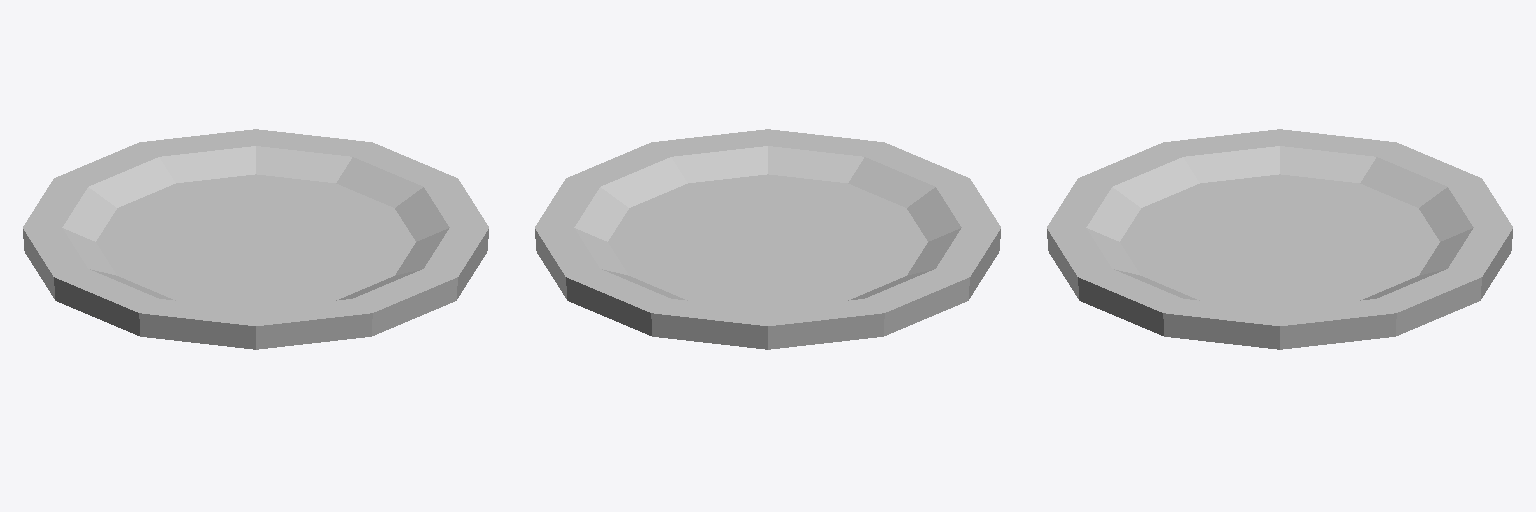
The model's file is plate.obj.
The picture shows the model from 3 angles: view 1: azimuth 30°, elevation 25°; view 2: azimuth 150°, elevation 25°; view 3: azimuth 270°, elevation 25°; orthographic projection.
Parts seen in each view (by area): view 1: plate_Cylinder.164; view 2: plate_Cylinder.164; view 3: plate_Cylinder.164.
Part boxes in pixels (x1,y1,x2,y2): plate_Cylinder.164: (23, 129, 488, 349); plate_Cylinder.164: (535, 129, 1000, 349); plate_Cylinder.164: (1047, 129, 1512, 349).
Bounding box in the file's own units: 0.9706 × 0.1294 × 0.9706.